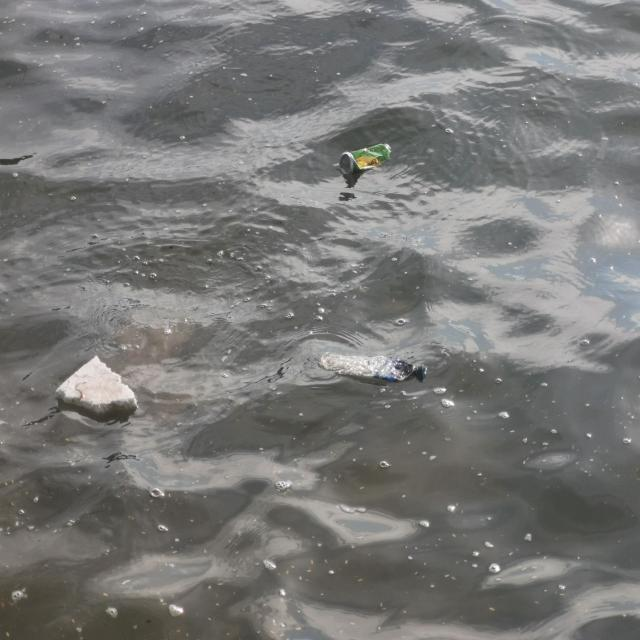can: (338, 142, 392, 177)
foam: (54, 356, 138, 419)
plastic: (320, 352, 426, 384)
